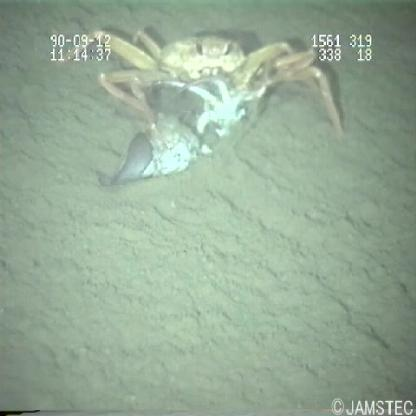Bio: (48, 24, 350, 186)
